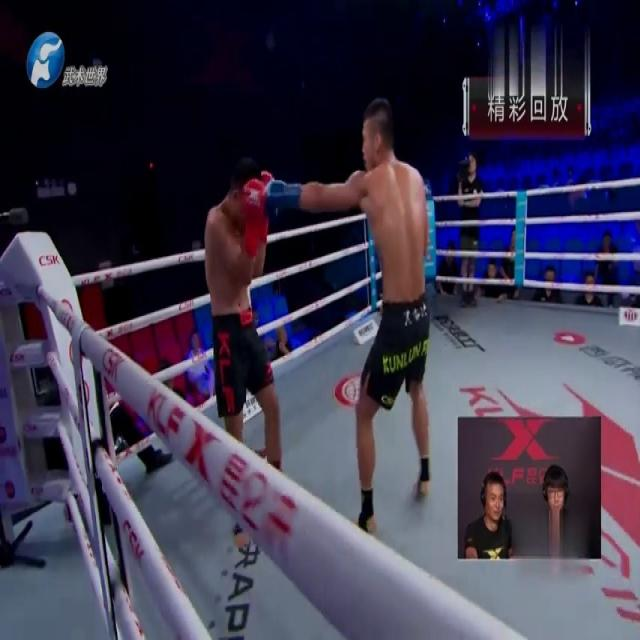fight: (199, 94, 436, 586)
